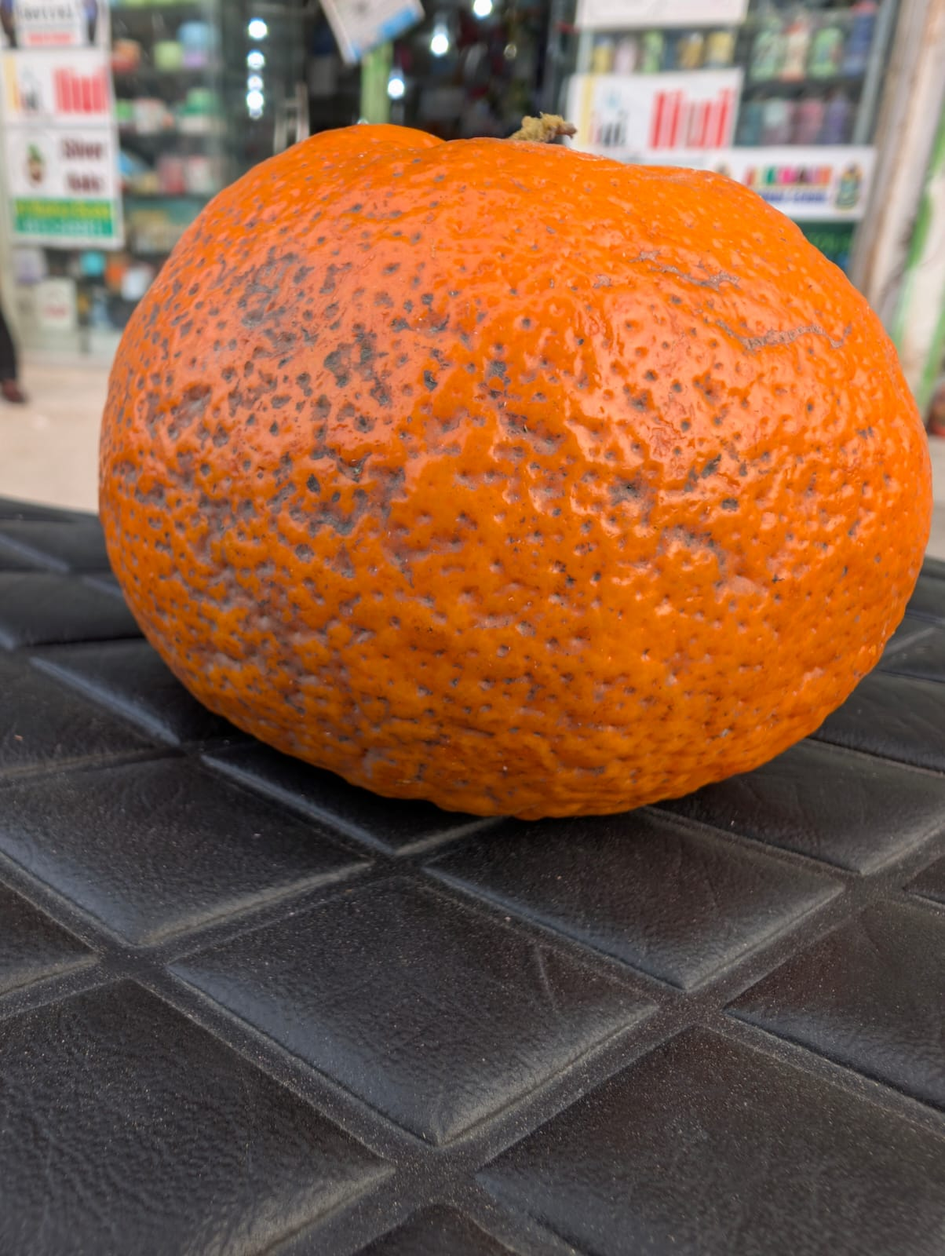orange: (71, 104, 894, 1232)
